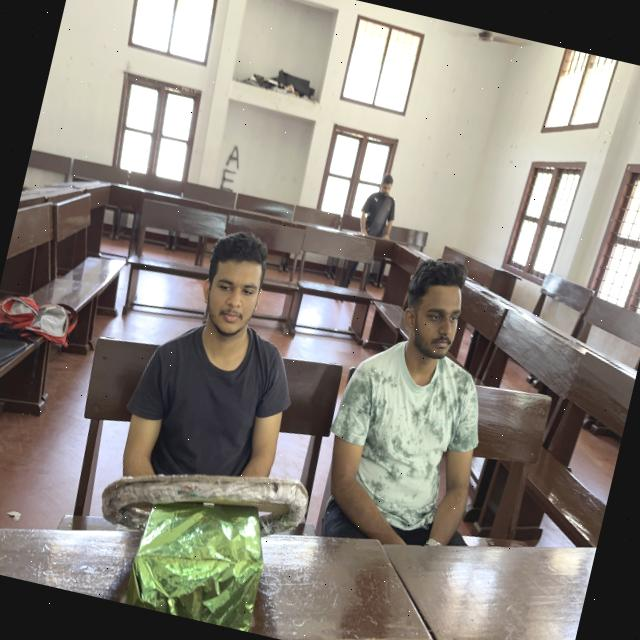Helmet: (104, 315, 304, 552), (314, 332, 500, 560)
